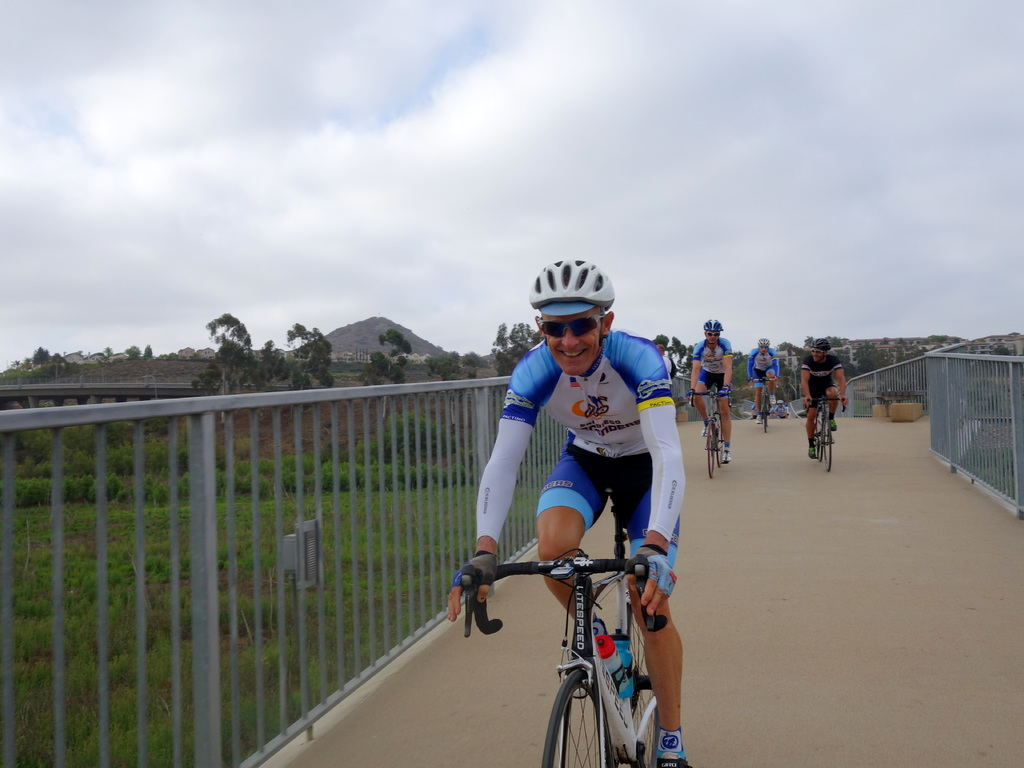Bike: (436, 466, 718, 768), (685, 385, 736, 480), (800, 392, 850, 470), (749, 375, 780, 432)
